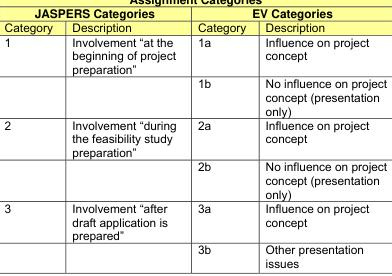table: (3, 4, 386, 269)
table column: (254, 4, 386, 269), (61, 4, 186, 269), (186, 4, 254, 269), (3, 4, 61, 269)
table column header: (3, 4, 386, 34)
table row: (3, 75, 386, 117), (3, 117, 386, 159), (3, 200, 386, 242), (3, 34, 386, 75), (3, 159, 386, 200), (3, 242, 386, 269), (3, 4, 386, 20), (3, 20, 386, 34)
table spanning cell: (3, 34, 61, 117), (3, 117, 61, 200), (3, 200, 61, 269), (186, 4, 386, 20), (3, 4, 186, 20)
